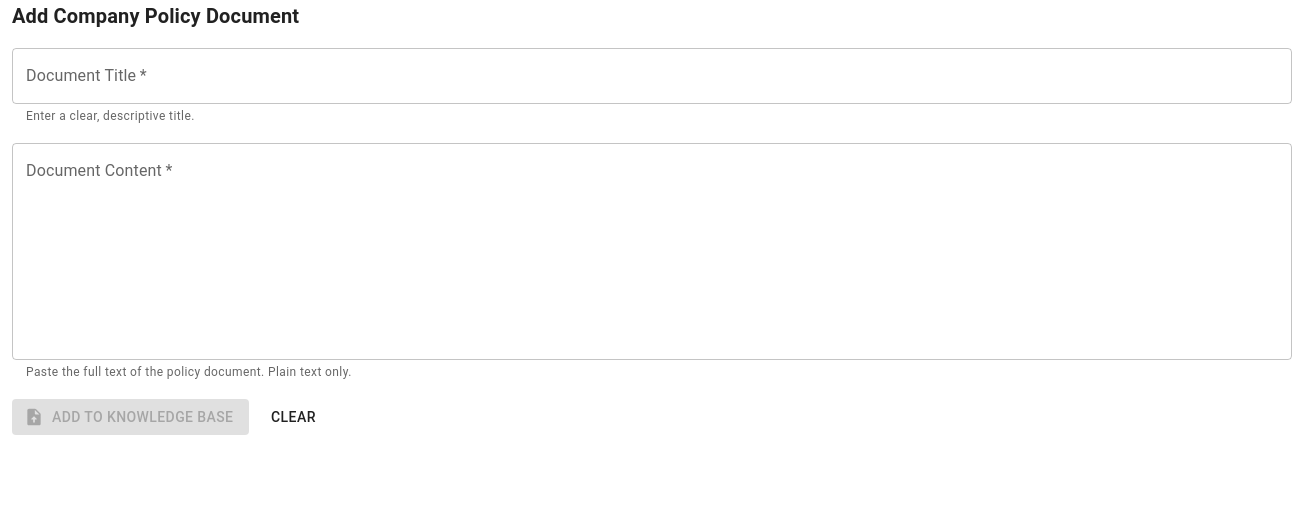
Test case: CompanyPolicyForm › Submission › shows error banner on API error response
Step 1. Type "Employee Attendance Policy" into the field labelled "Document Title *" → (652, 76), box [12,48,1292,104]
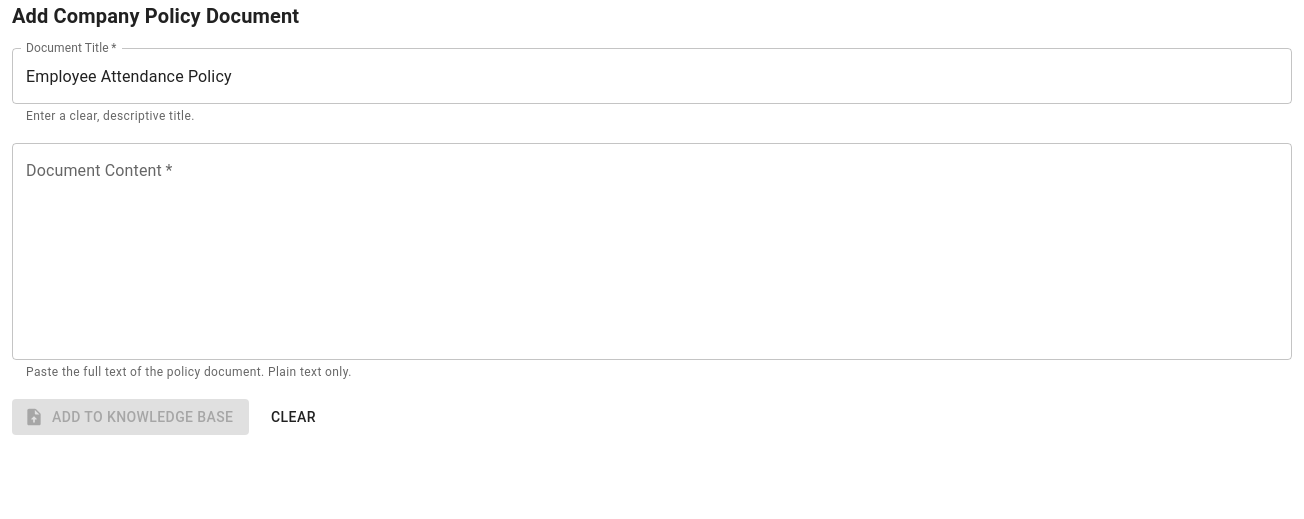
Step 2. Type "Employees must record attendance daily through the portal." into the text box labelled "Document Content *" → (652, 251), box [26,159,1278,343]
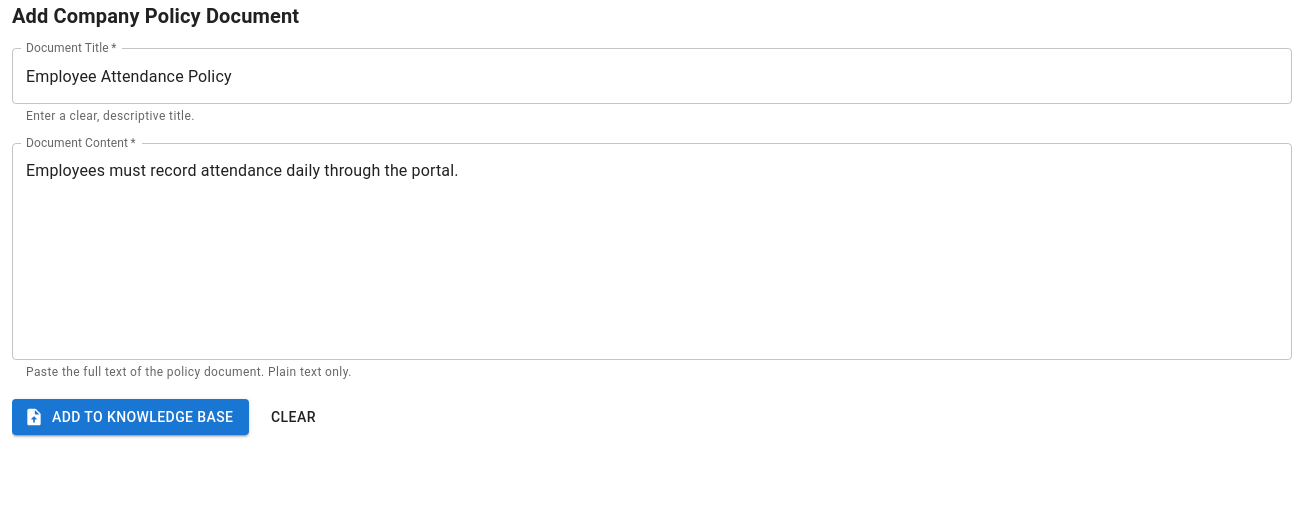
Step 3. Click the button with aria-label "submit document" → click(131, 417), box [12,399,249,435]
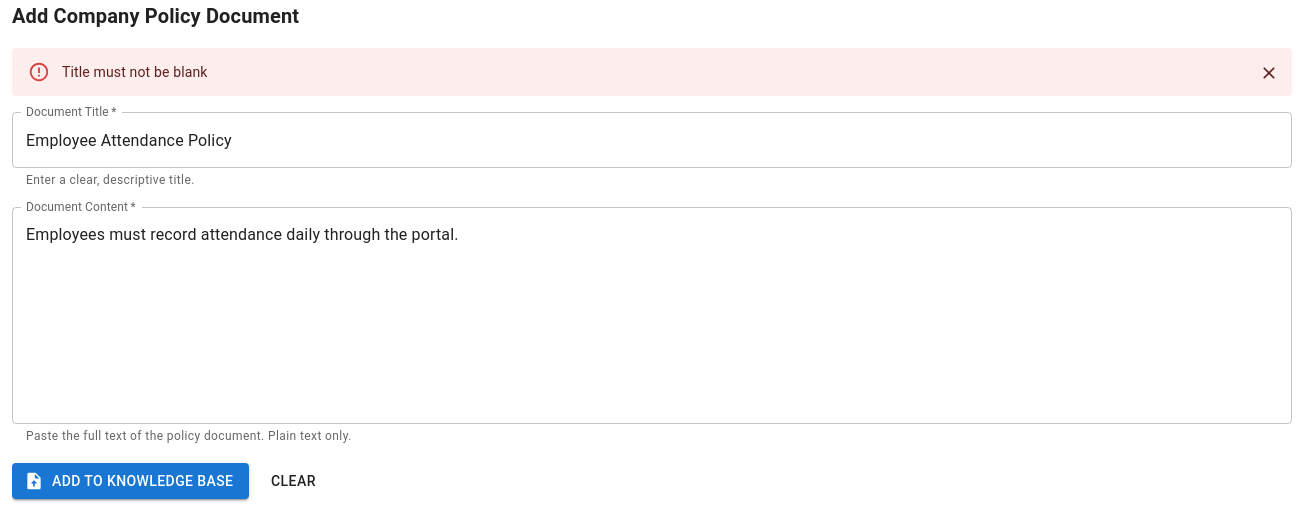
Expected: the message named "submission error" is shown, [12,48,1292,96]
